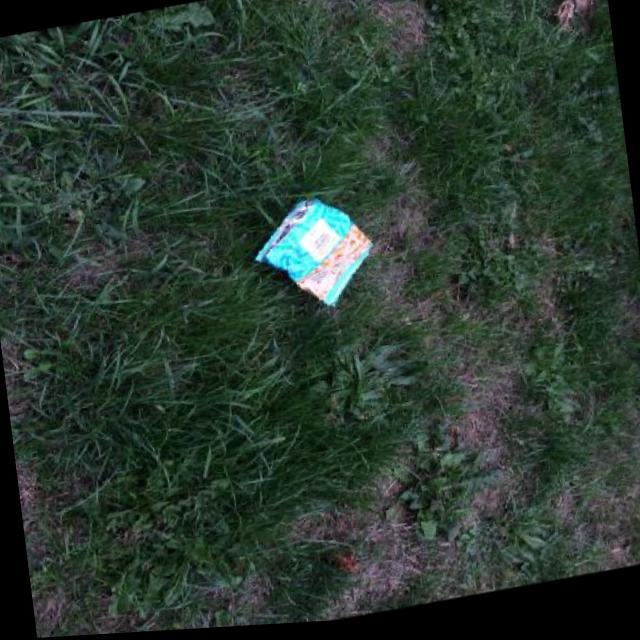plastic: (248, 188, 379, 321)
